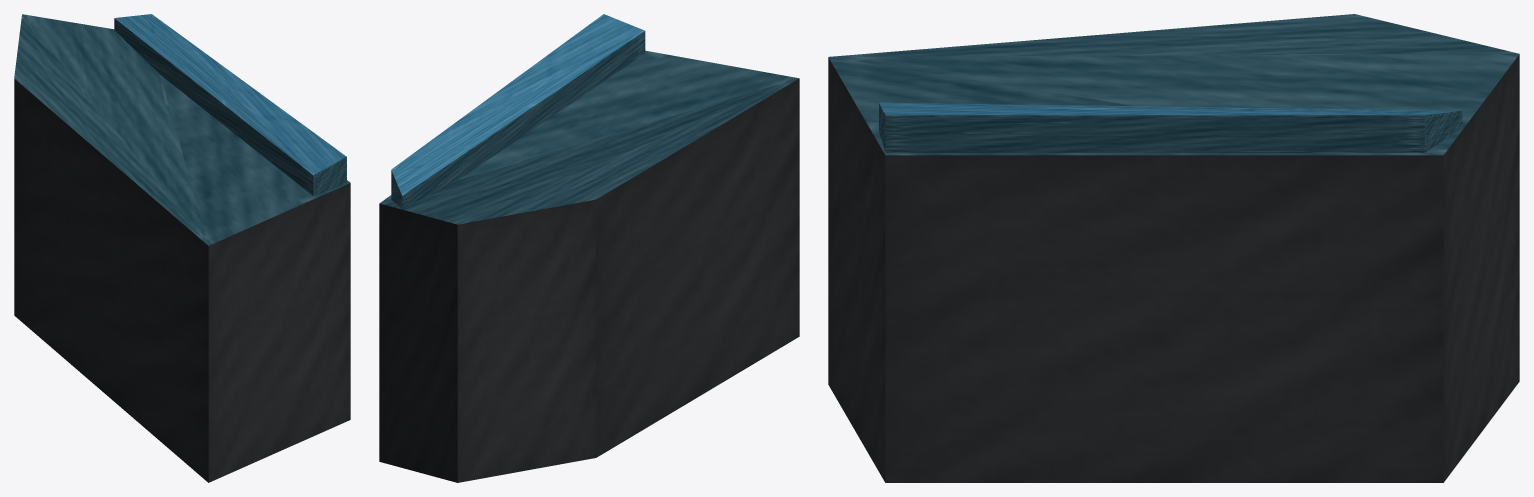
File: Shield.animated.glb
3 views of the same model, side by side, from view 1: azimuth 30°, elevation 25°; view 2: azimuth 150°, elevation 25°; view 3: azimuth 270°, elevation 25° (orthographic). The views are drawn at different scales.
Visible parts, largest first — view 1: Shield; view 2: Shield; view 3: Shield.
Part boxes in pixels (x1,y1,x2,y2): Shield: (14, 14, 350, 482); Shield: (379, 14, 799, 482); Shield: (828, 14, 1519, 482).
Bounding box in the file's own units: 0.042 × 0.0655 × 0.109.
1 material, 1 textured.
